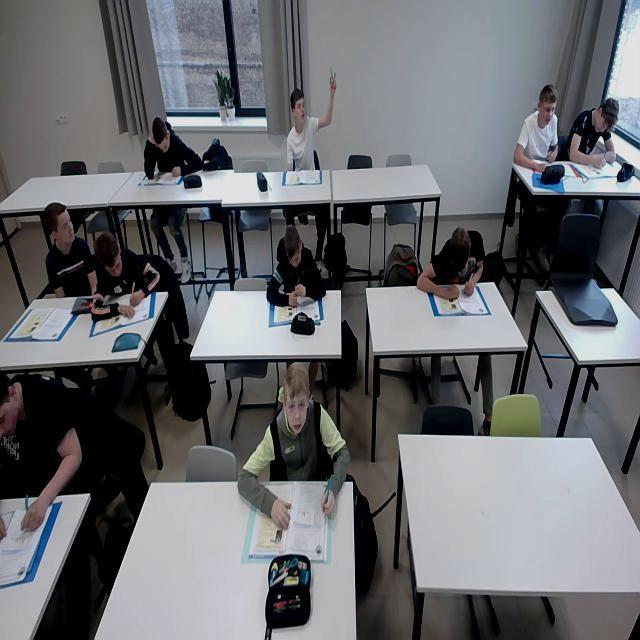Looking away: (44, 203, 79, 247), (538, 83, 558, 128)
Looking forward: (284, 362, 311, 434)
Raising hand: (286, 68, 336, 174)
Reading-writing: (90, 239, 166, 325), (419, 226, 491, 316), (265, 227, 329, 312), (571, 94, 628, 179), (142, 119, 202, 188)
